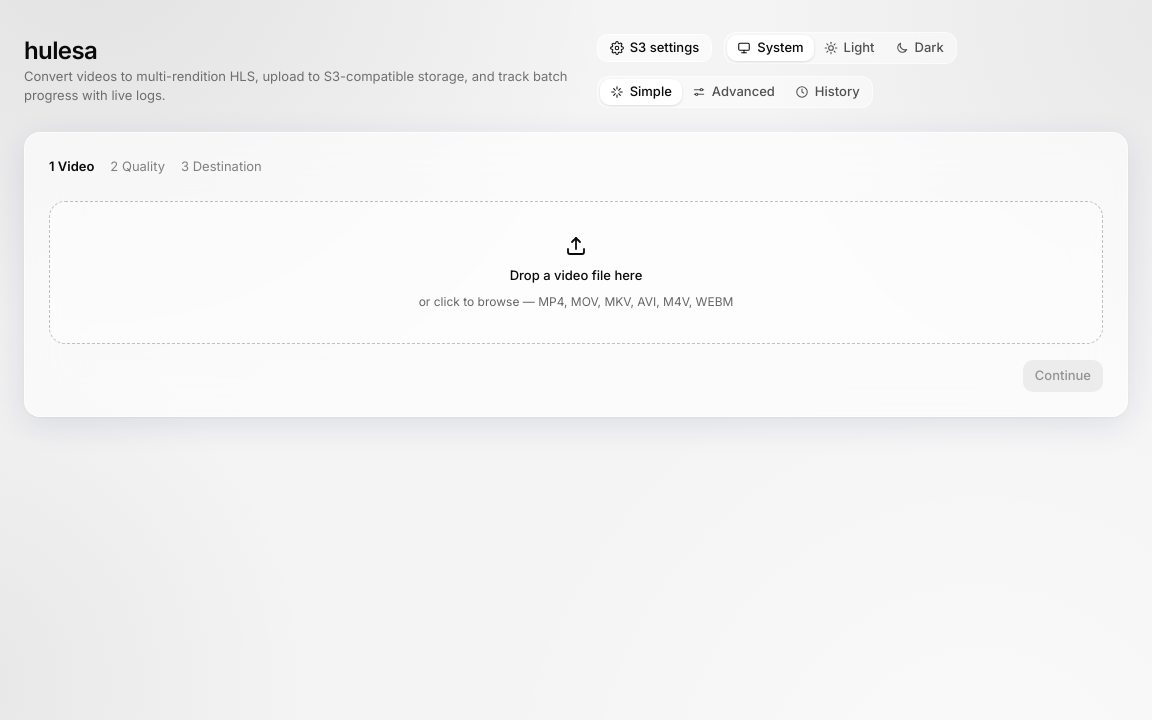
Scenario: S3 settings modal › prefills saved settings when the modal opens
Click the button "S3 settings".
click(654, 48)  # box x1=597 y1=34 x2=712 y2=62
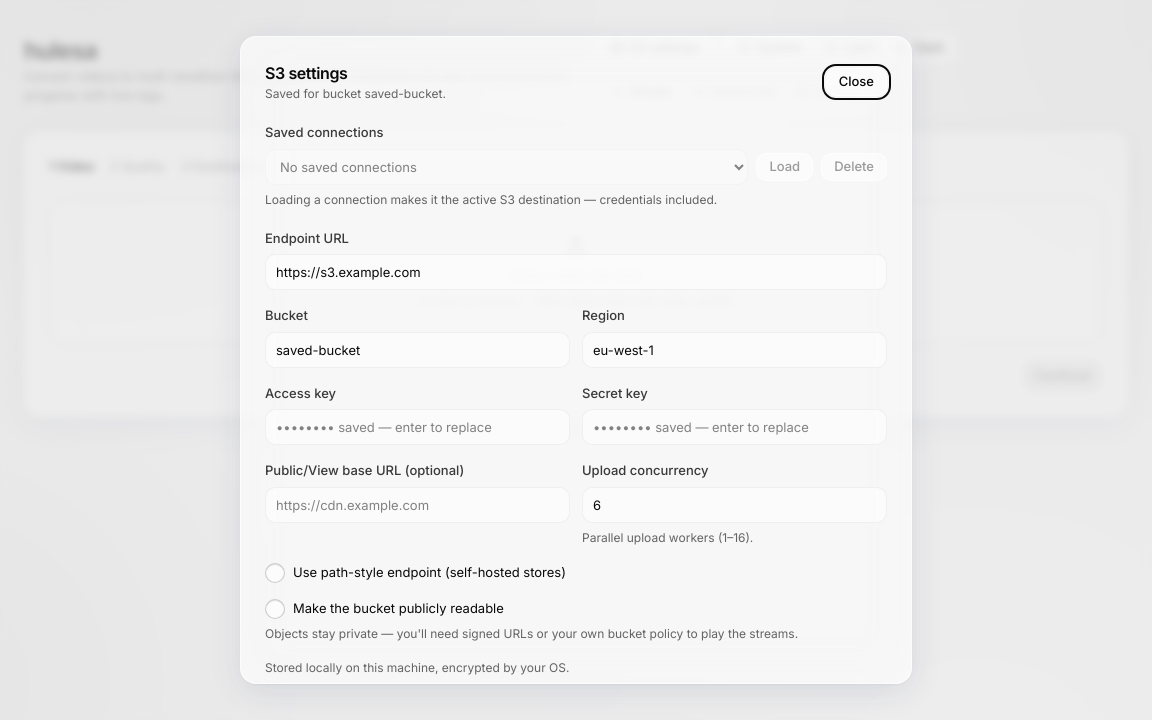
Expected: the field labelled "Endpoint URL" holds "https://s3.example.com", x1=265 y1=254 x2=887 y2=290
Expected: the field labelled "Bucket" holds "saved-bucket", x1=265 y1=332 x2=570 y2=368
Expected: the field labelled "Region" holds "eu-west-1", x1=582 y1=332 x2=887 y2=368
